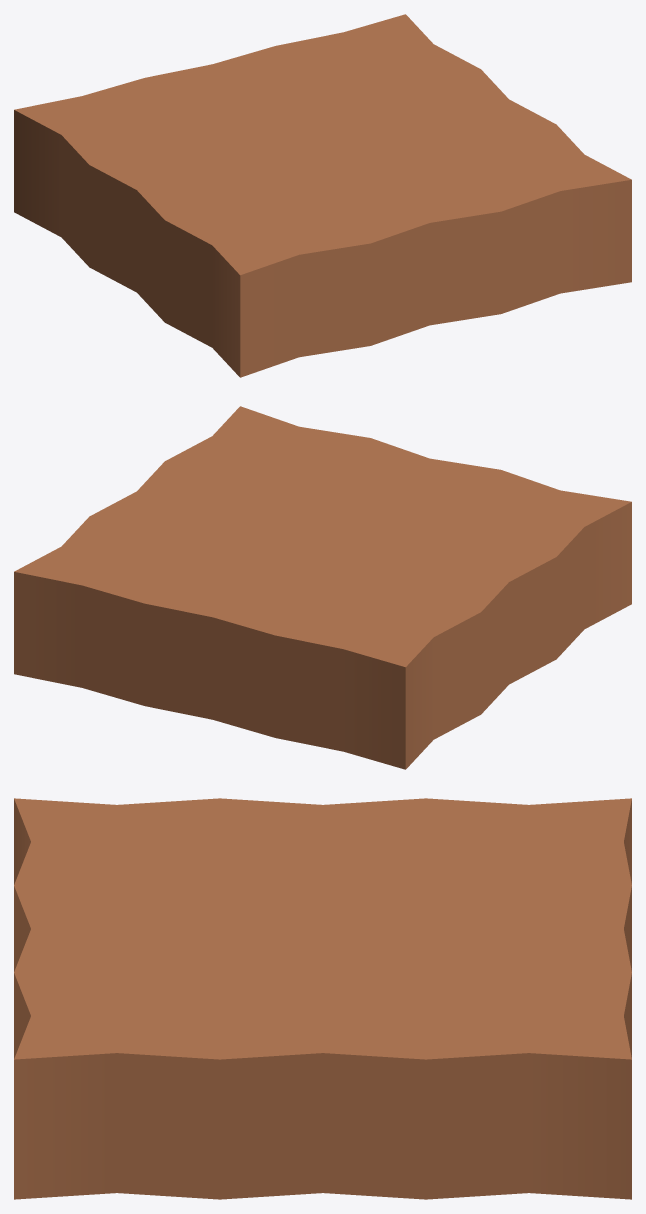
The model's file is jaggeredTile-17a_col.fbx.
3 views of the same model, one above another, from view 1: azimuth 30°, elevation 25°; view 2: azimuth 150°, elevation 25°; view 3: azimuth 270°, elevation 25° (orthographic). The views are drawn at different scales.
Parts seen in each view (by area): view 1: jaggeredTile-17a.col; view 2: jaggeredTile-17a.col; view 3: jaggeredTile-17a.col.
Part boxes in pixels (box(x1,y1,x2,y2)): jaggeredTile-17a.col: box(14, 14, 631, 377); jaggeredTile-17a.col: box(14, 406, 631, 769); jaggeredTile-17a.col: box(14, 798, 631, 1199).
Size of the model in its own units: 2 by 0.5 by 2.
Materials: 1 (1 with a texture image).
